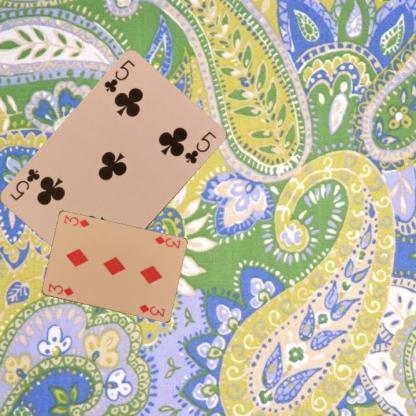3d: (45, 281, 75, 297), (152, 234, 181, 250)
5c: (102, 57, 136, 94)
